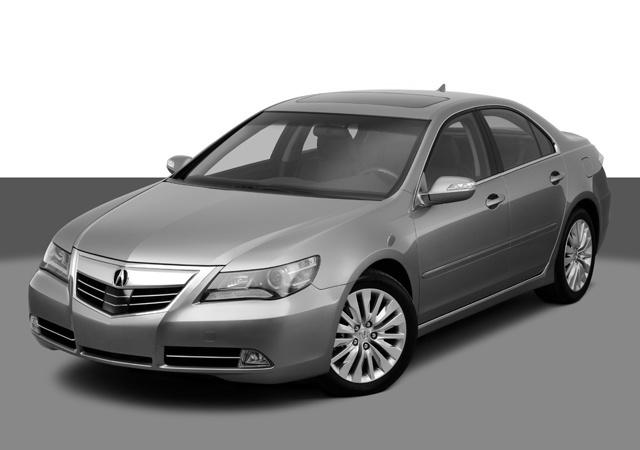car: (27, 82, 618, 400)
